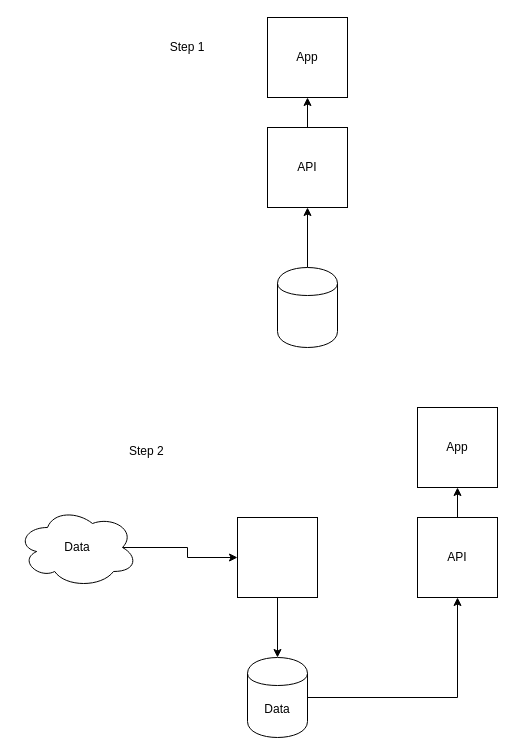
The diagram is 515 pixels wide and 755 high, and some of its shapes have lost their labels. Here are the shapes that lost their labels. From the top down, the box of each, then its label:
(276, 266, 338, 348): CSV file
(236, 516, 318, 598): Ingestor
